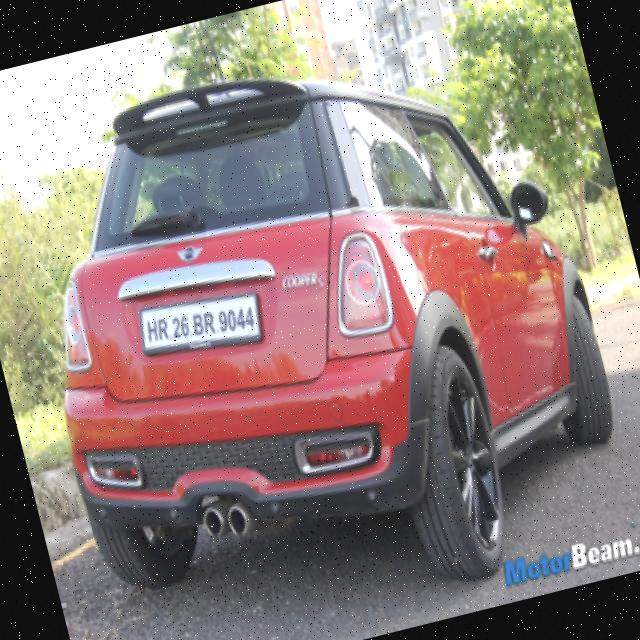Autre: (135, 276, 264, 363)
